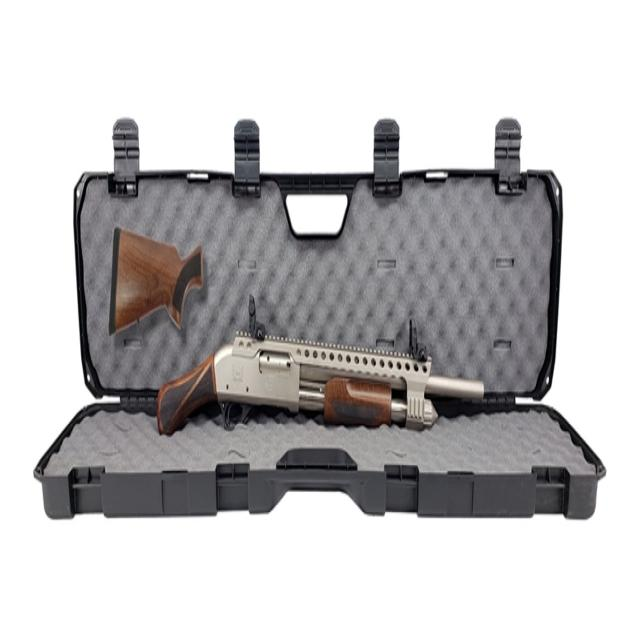ShotGun: (156, 335, 484, 436)
